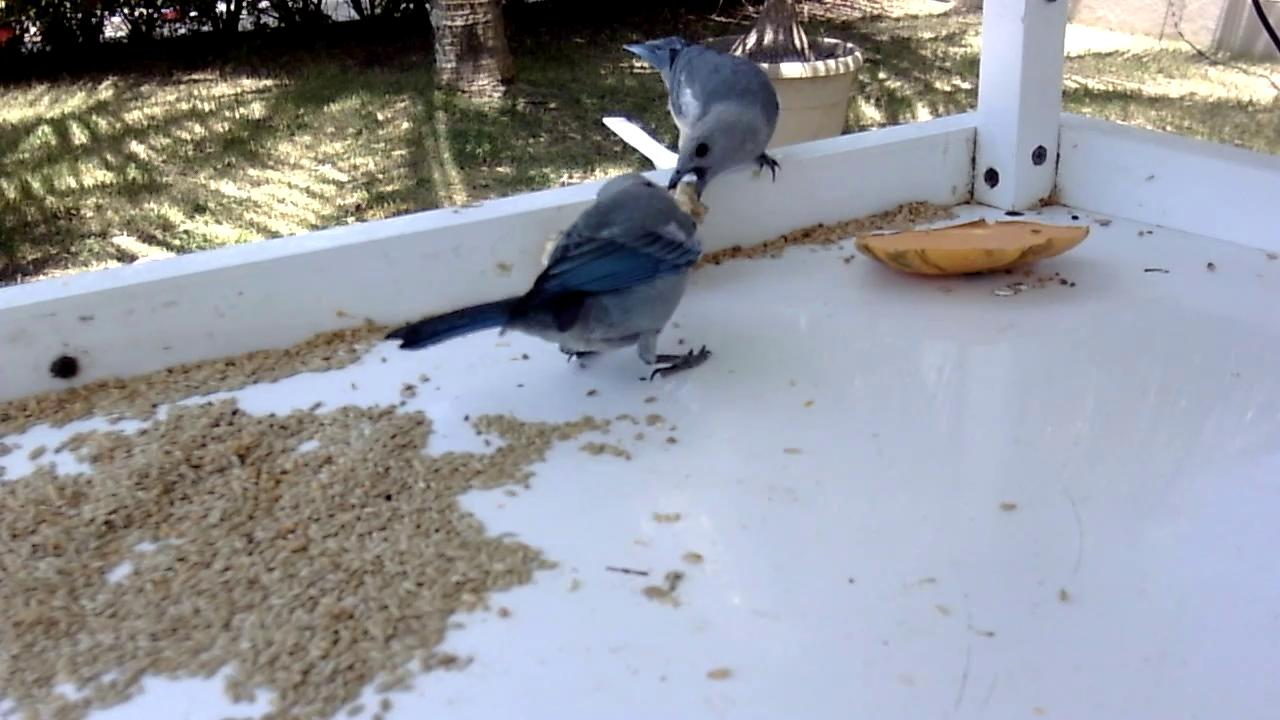sanhaco_da_amazonia: (385, 175, 715, 382), (624, 35, 782, 202)
